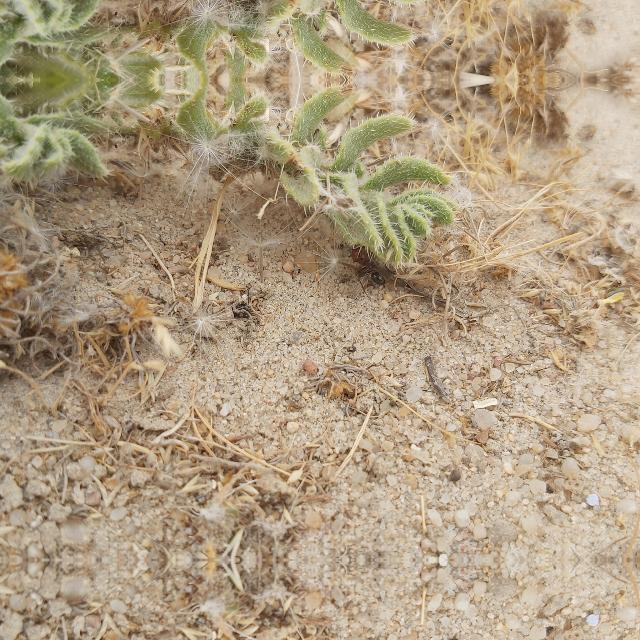Cataglyphis: (338, 242, 394, 290)
